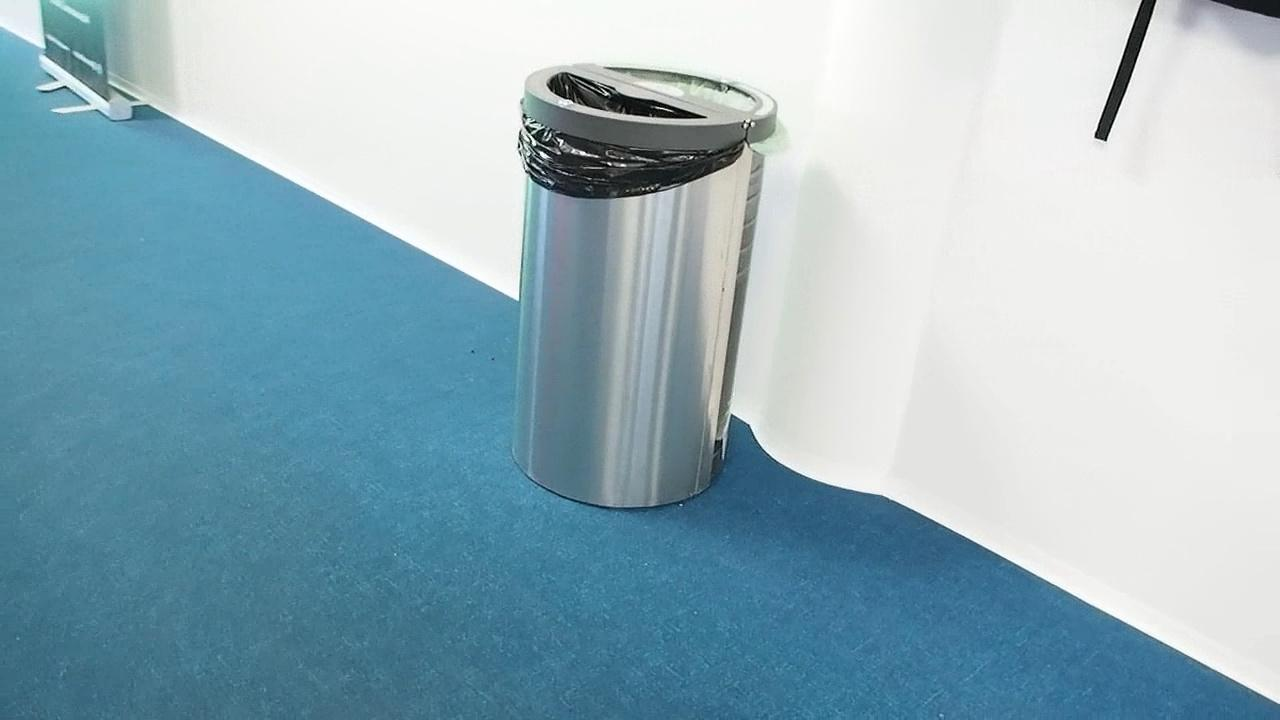trashbin: (503, 49, 759, 521)
